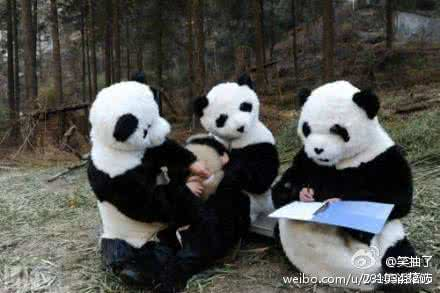panda: (273, 77, 423, 293), (88, 73, 204, 272), (188, 75, 282, 249)
